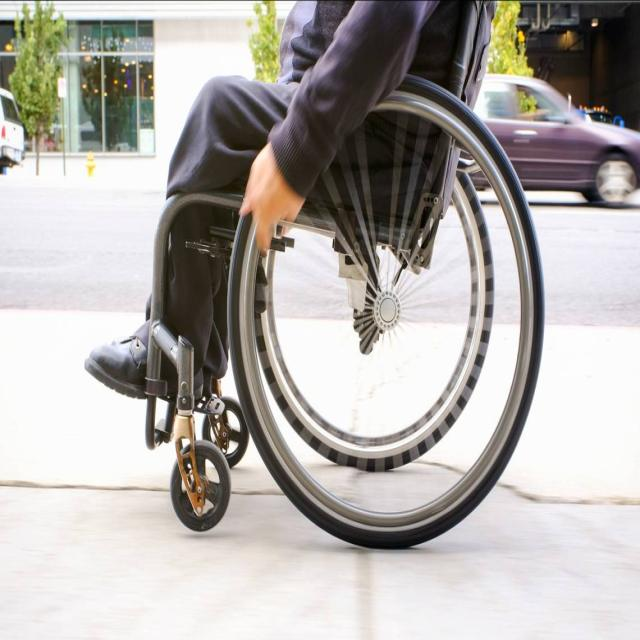wheelchairs: (118, 56, 552, 562)
